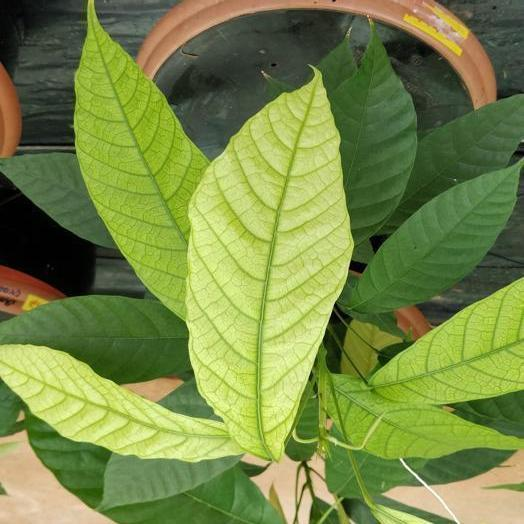Iron: (186, 71, 352, 459), (75, 0, 208, 318), (0, 345, 241, 461), (371, 278, 523, 403), (328, 375, 523, 457)
